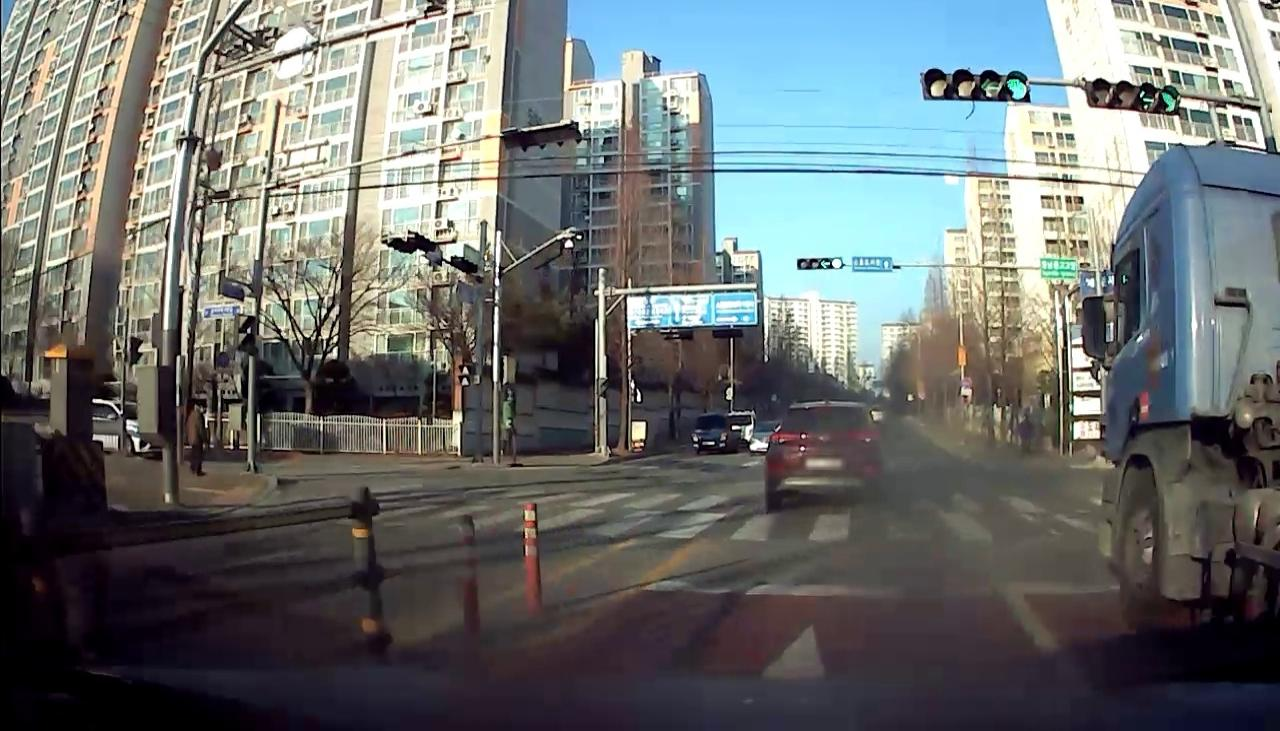Green Light: (1004, 70, 1031, 103), (1159, 86, 1180, 116), (831, 256, 842, 268)
Left turn: (976, 64, 1002, 103), (1133, 82, 1157, 113), (820, 257, 830, 269)
